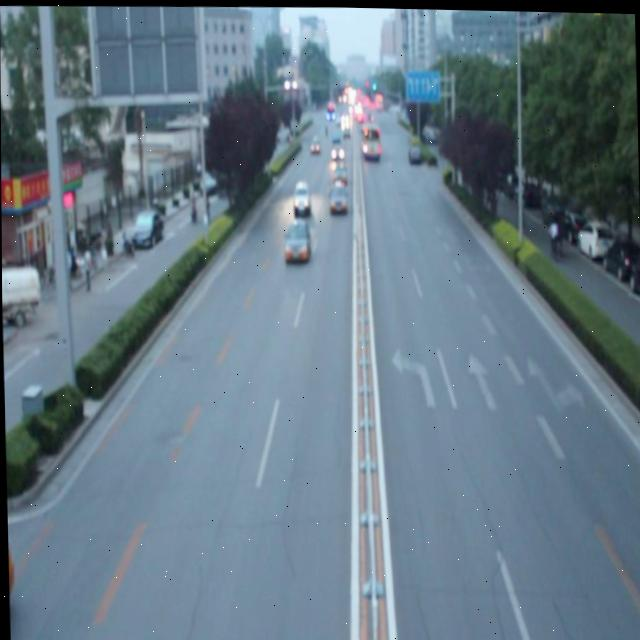car: (283, 215, 309, 258), (326, 178, 346, 210), (291, 177, 309, 211)
